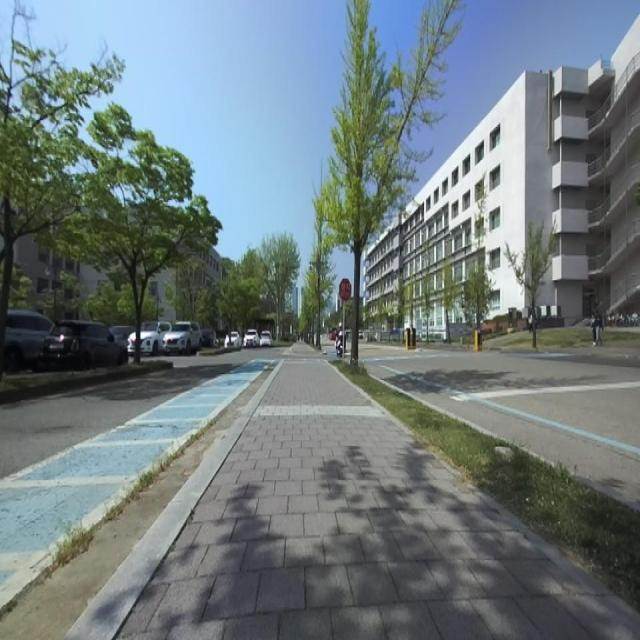sidewalk: (120, 358, 640, 639), (539, 346, 640, 355), (292, 343, 323, 356)
